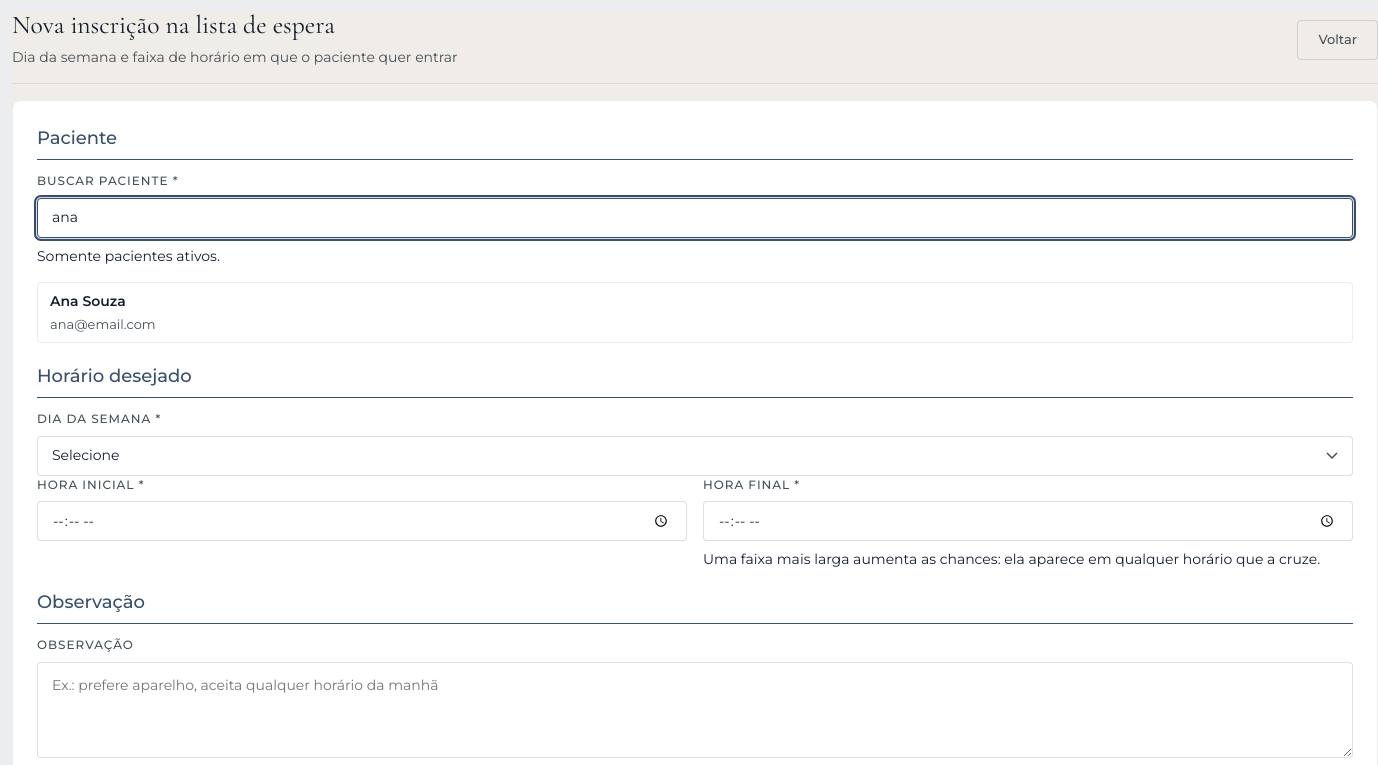
Test: ListaEsperaFormComponent › busca de paciente › should keep the chosen patient and clear the search
Click the button with class "sugestao": {"x": 88, "y": 301} x1=37 y1=282 x2=1353 y2=343
Wait 300 ms
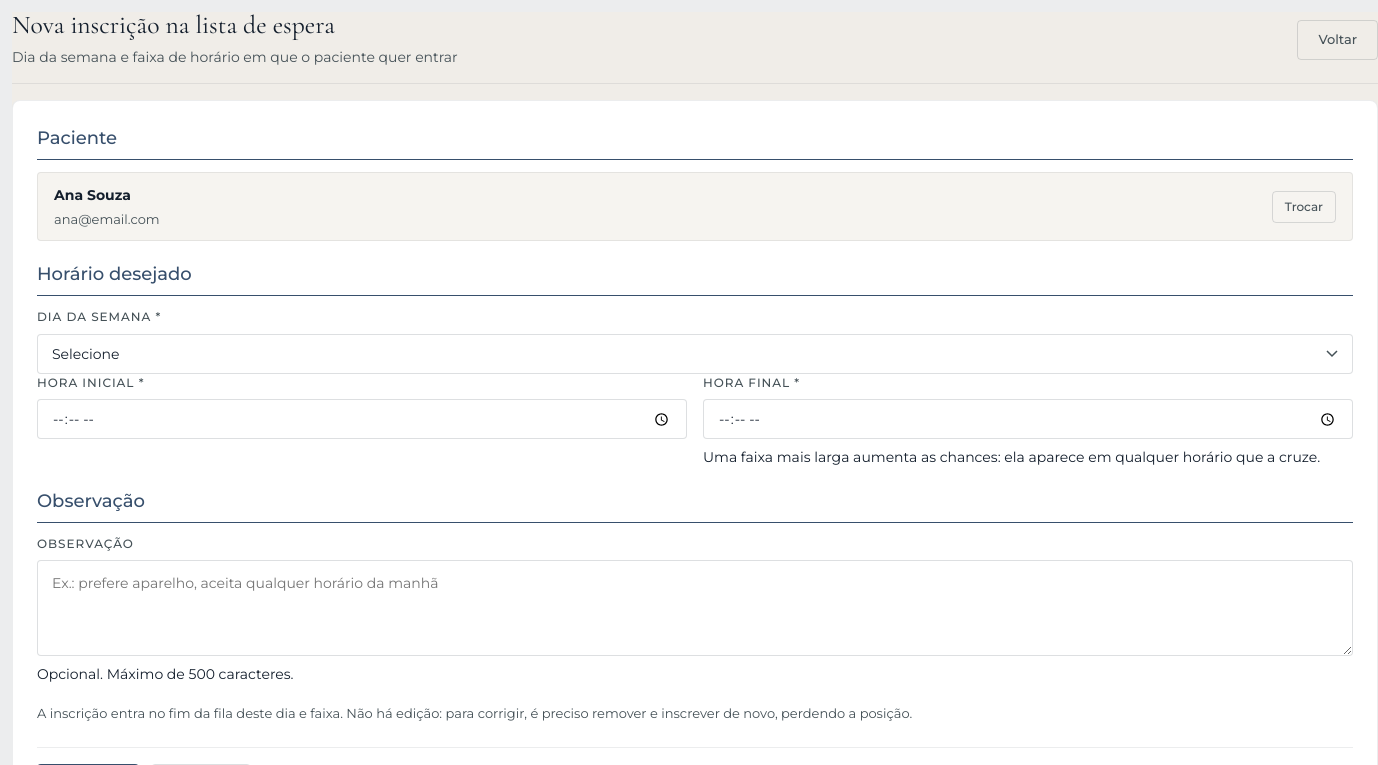
Expected: the element showing "Ana Souza ana@email.com Trocar" is shown, x1=37 y1=172 x2=1353 y2=241
